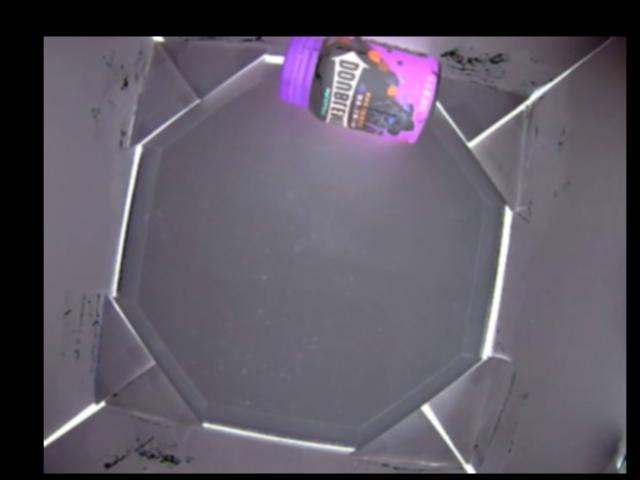Bottle: (277, 37, 442, 145)
